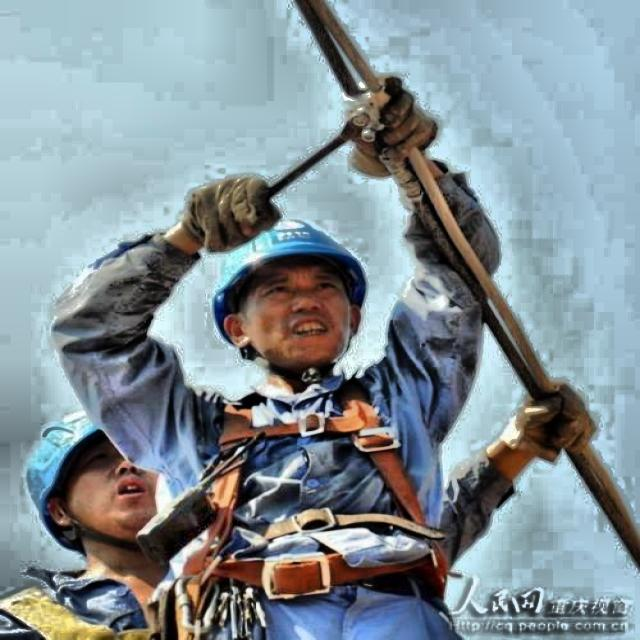helmet: (192, 197, 390, 390), (13, 386, 189, 572)
